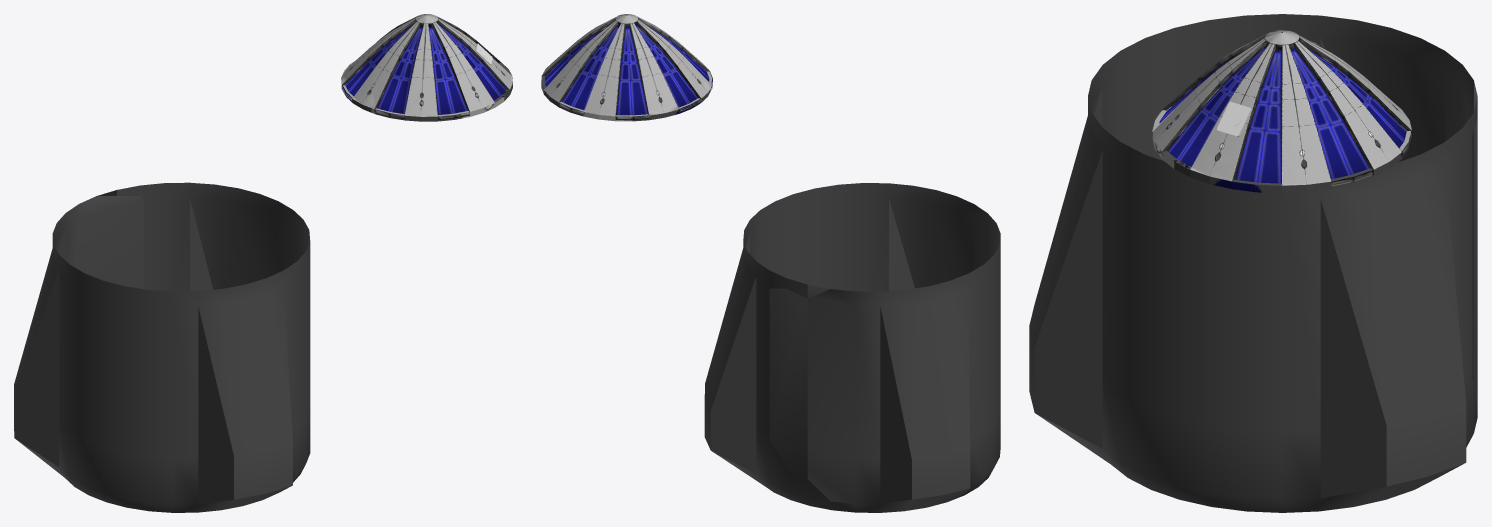
Rendered from coloniallandertop.fbx.
The picture shows the model from 3 angles, left to right: view 1: azimuth 30°, elevation 25°; view 2: azimuth 150°, elevation 25°; view 3: azimuth 270°, elevation 25°; orthographic projection. The views are drawn at different scales.
Parts seen in each view (by area): view 1: Cone.000, ColonialLander.001, ColonialLander.000; view 2: Cone.000, ColonialLander.001, ColonialLander.000; view 3: Cone.000, ColonialLander.001, ColonialLander.000, Cube.
Boxes of the visible parts, x1=… form: Cone.000: x1=14, y1=182, x2=310, y2=512; ColonialLander.001: x1=341, y1=14, x2=512, y2=119; ColonialLander.000: x1=342, y1=45, x2=512, y2=121; Cone.000: x1=704, y1=183, x2=1000, y2=512; ColonialLander.001: x1=541, y1=14, x2=712, y2=120; ColonialLander.000: x1=541, y1=48, x2=711, y2=121; Cone.000: x1=1029, y1=14, x2=1477, y2=512; ColonialLander.001: x1=1152, y1=30, x2=1411, y2=189; ColonialLander.000: x1=1152, y1=85, x2=1410, y2=193; Cube: x1=1217, y1=101, x2=1253, y2=136.
Size of what is drawn, in the model's own units: 831 by 677 by 472.
